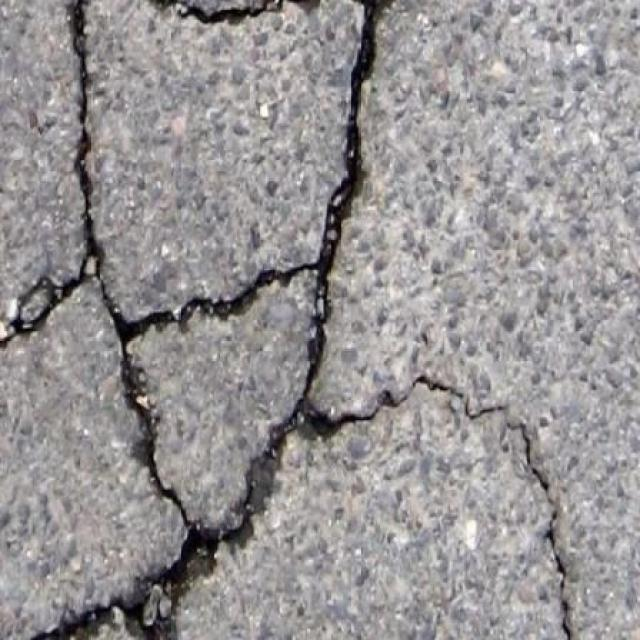Crack: (0, 0, 408, 640), (149, 0, 320, 26), (509, 424, 549, 492), (414, 376, 462, 399), (556, 554, 568, 591), (545, 514, 557, 549), (562, 601, 572, 639)
